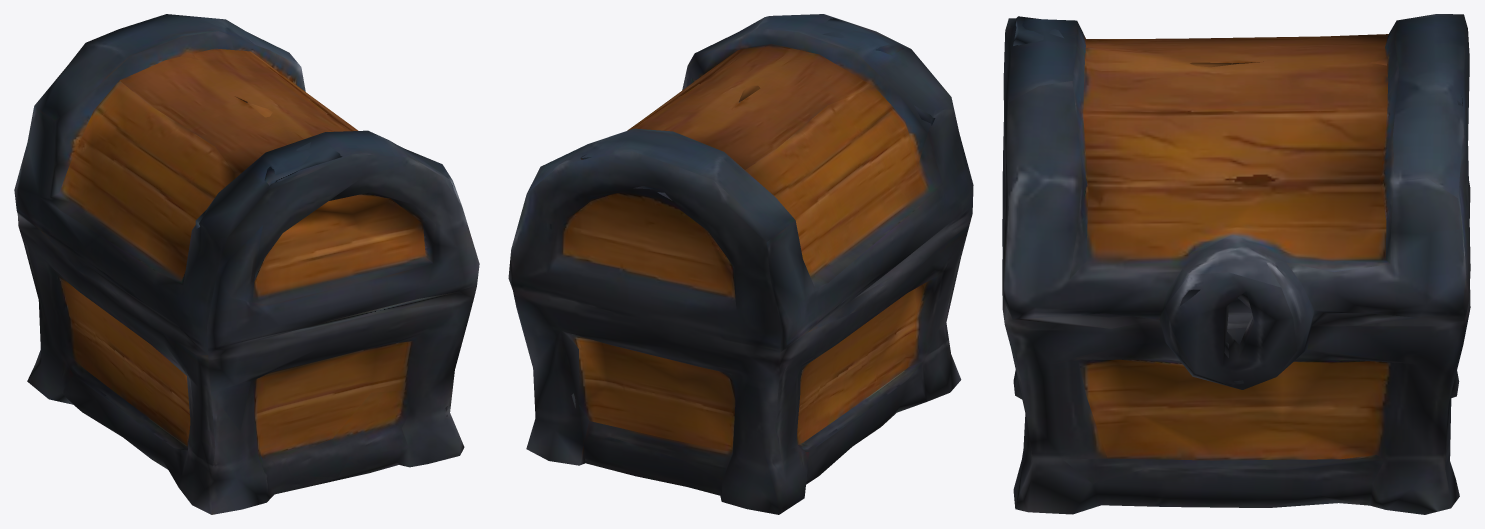
File: chest.glb
The picture shows the model from 3 angles, left to right: view 1: azimuth 30°, elevation 25°; view 2: azimuth 150°, elevation 25°; view 3: azimuth 270°, elevation 25°; orthographic projection. The views are drawn at different scales.
Visible parts, largest first — view 1: geometry_0; view 2: geometry_0; view 3: geometry_0.
Part boxes in pixels (x1,y1,x2,y2): geometry_0: (14, 14, 479, 514); geometry_0: (508, 14, 973, 514); geometry_0: (1002, 14, 1470, 514).
Size of the model in its own units: 0.7386 by 0.8 by 0.8407.
1 material, 1 textured.
